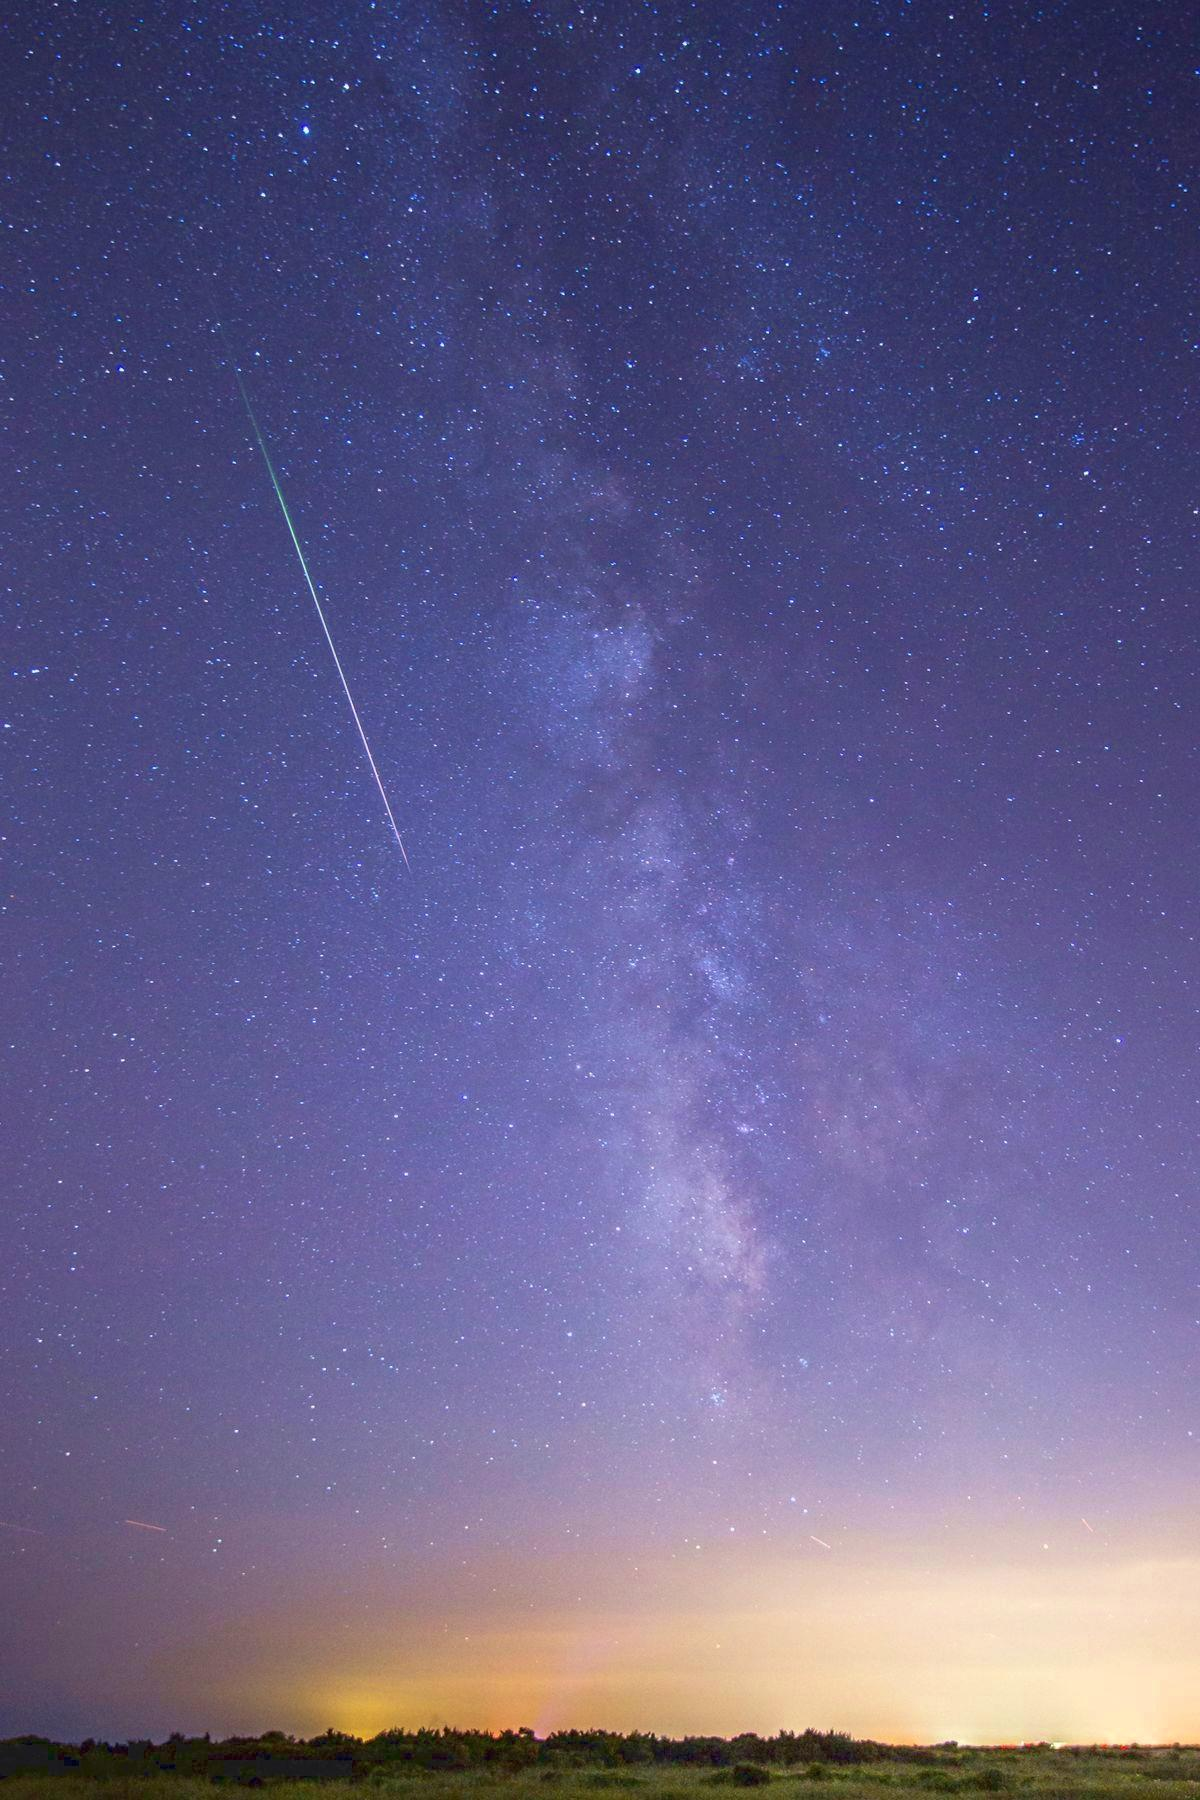meteorite: (192, 366, 449, 884), (115, 1507, 178, 1547)
